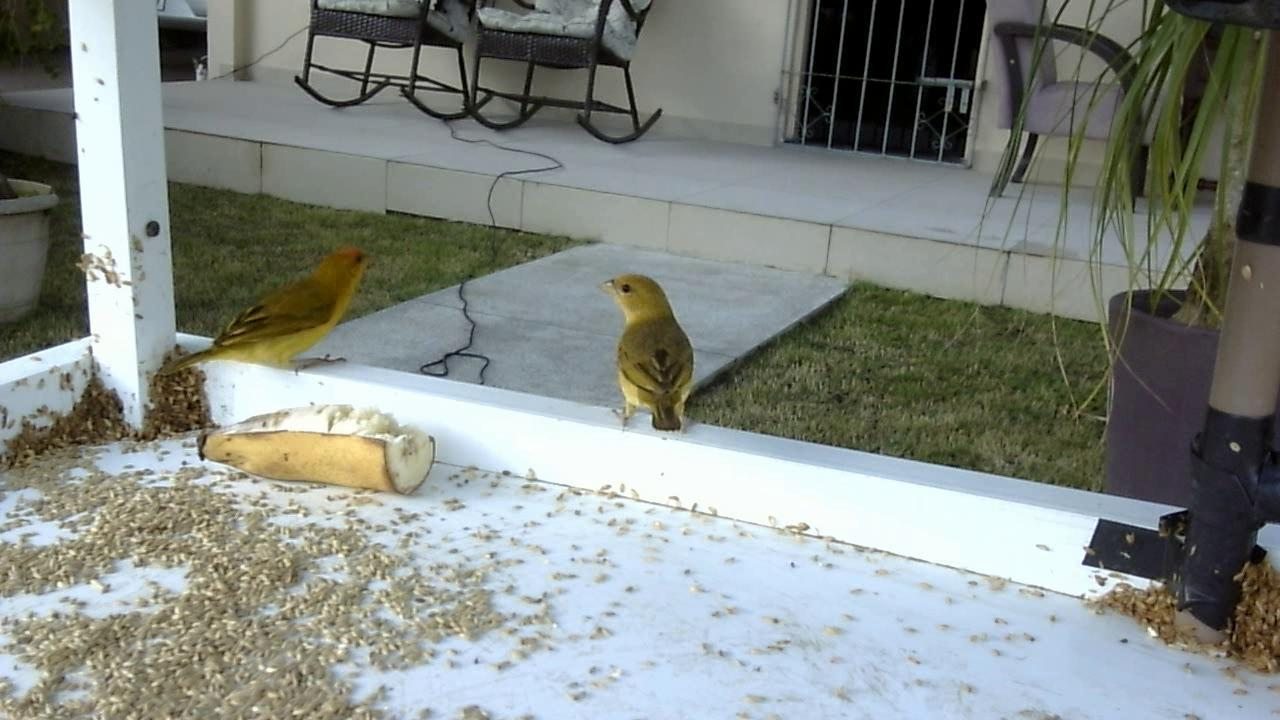canario_do_amazonas: (151, 245, 375, 411), (589, 272, 701, 441)
